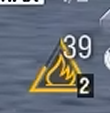2fire: (25, 61, 94, 99)
